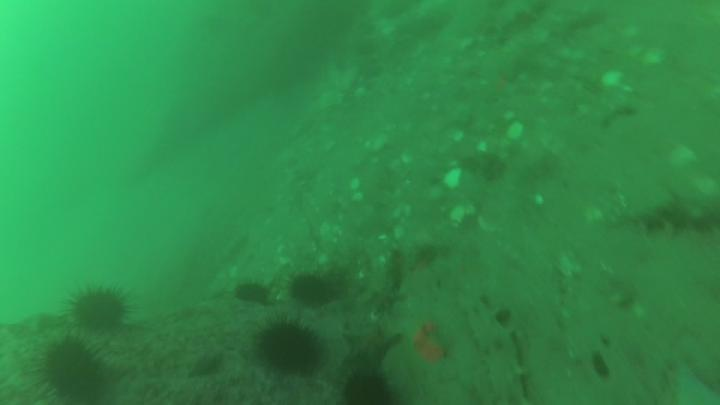echinus: (43, 343, 103, 405), (262, 324, 320, 373), (73, 294, 126, 329), (346, 373, 388, 405), (290, 277, 330, 308), (235, 283, 267, 306)
holothurian: (459, 296, 532, 405), (632, 197, 720, 234), (374, 252, 405, 317)
scallop: (341, 319, 401, 366)
